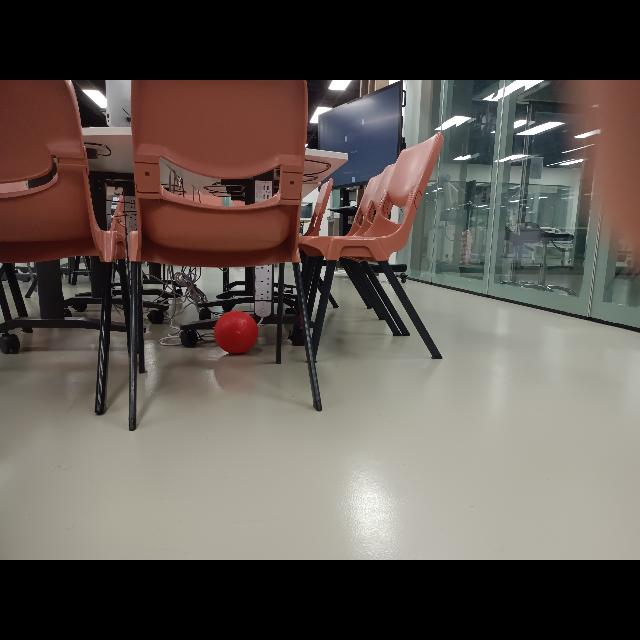R: (213, 310, 259, 354)
